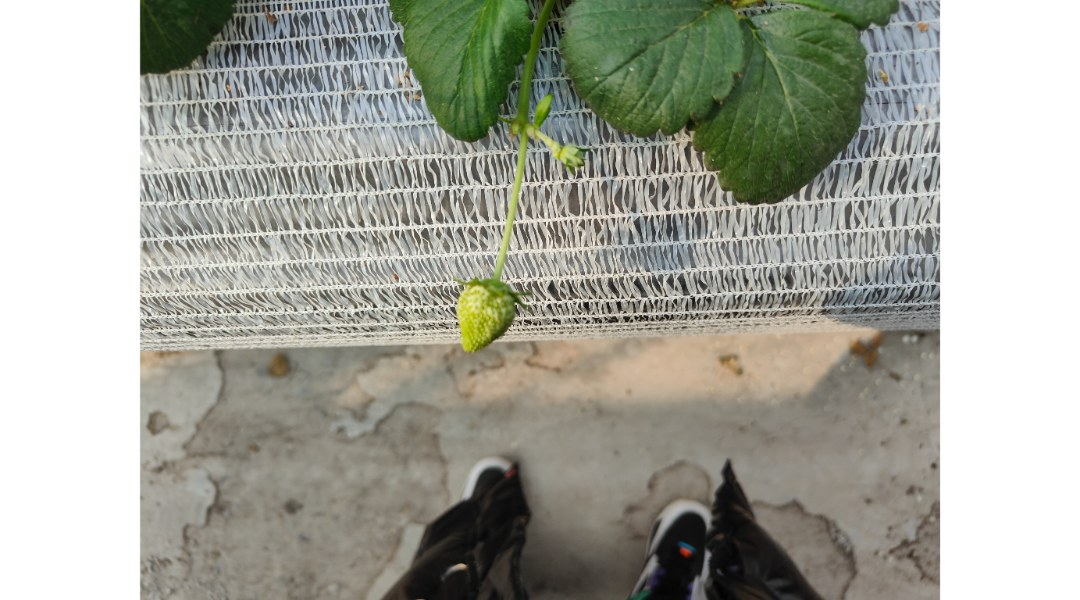berry: (443, 283, 531, 358)
strain: (499, 145, 535, 271), (515, 6, 550, 99)
